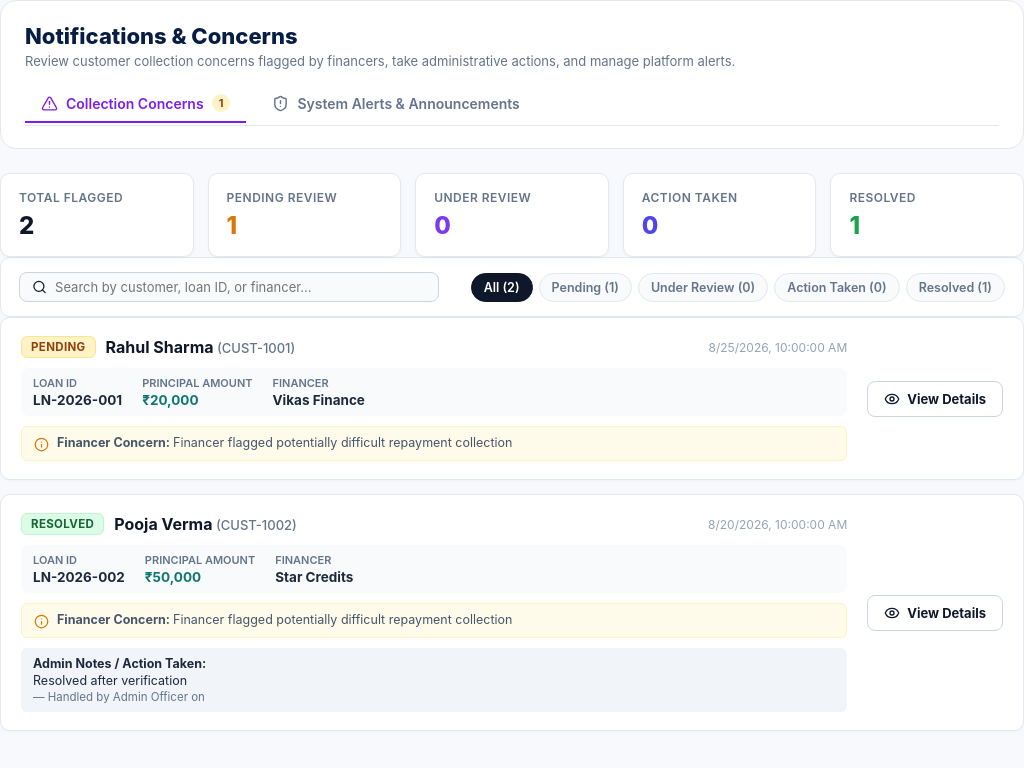
Test case: AdminNotifications Component › filters concerns by status chip and search keyword
Expected: the heading "Rahul Sharma (CUST-1001)" is shown, [106,337,295,357]
// Filter by Pending
Step 1. Click the button "Pending (1)" → coordinates (585, 287), box [539,272,632,302]
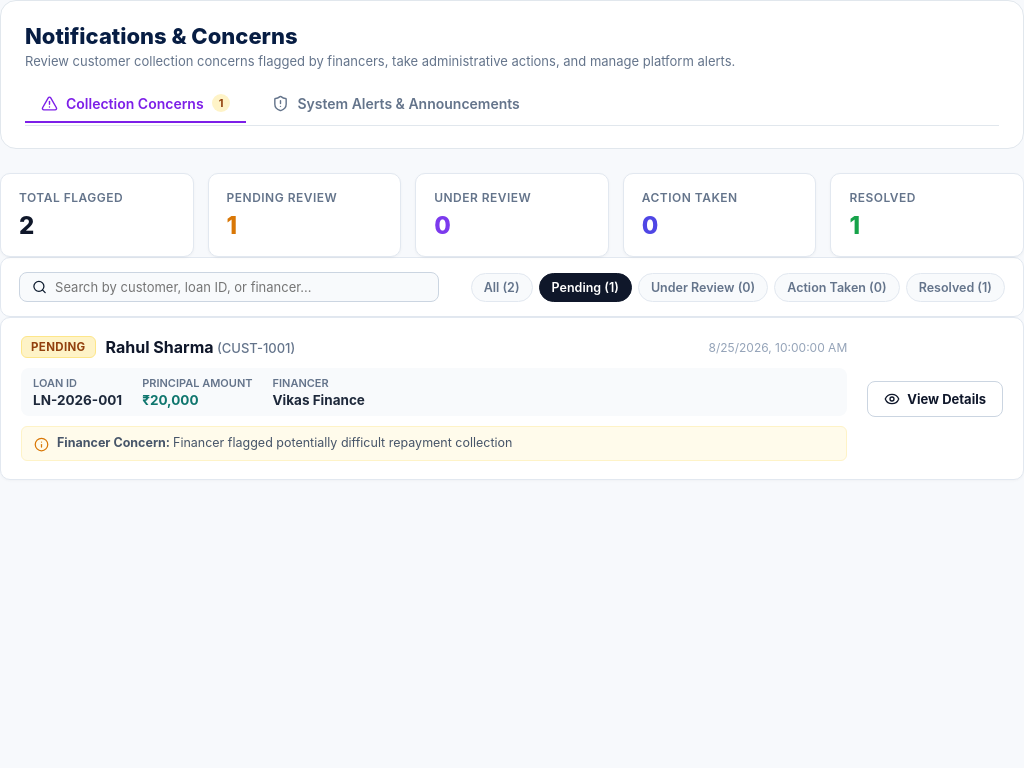
Expected: the heading "Rahul Sharma (CUST-1001)" is shown, [106,337,295,357]
Expected: the heading "Pooja Verma" is gone
// Search filter
Step 2. Type "Nonexistent" into the field with placeholder "Search by customer, loan ID, or financer..." → coordinates (241, 287), box [55,279,426,295]
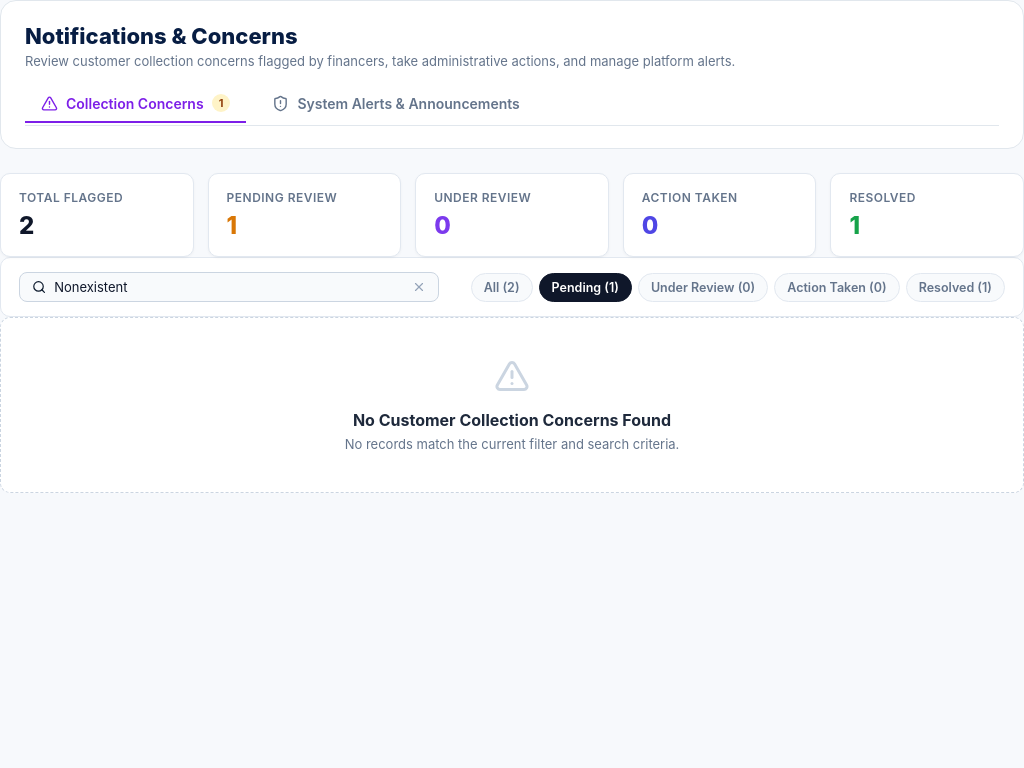
Expected: the heading "Rahul Sharma" is gone
Expected: the heading "No Customer Collection Concerns Found" is shown, [353,410,671,430]
